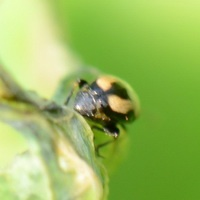insect: (64, 74, 139, 154)
